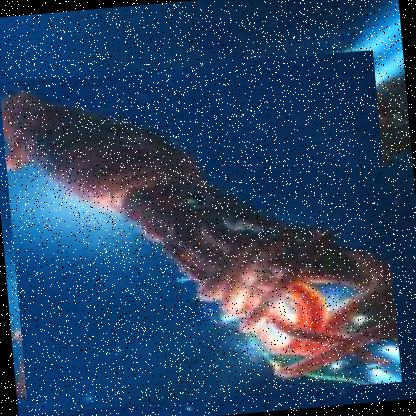colossal_squid: (0, 51, 403, 415)
